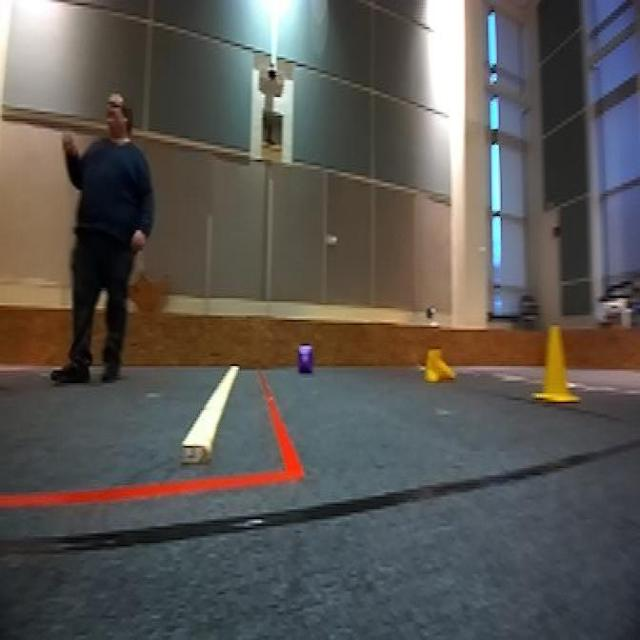frc_cone: (534, 322, 576, 410), (420, 346, 456, 386)
frc_cube: (294, 344, 316, 376)
